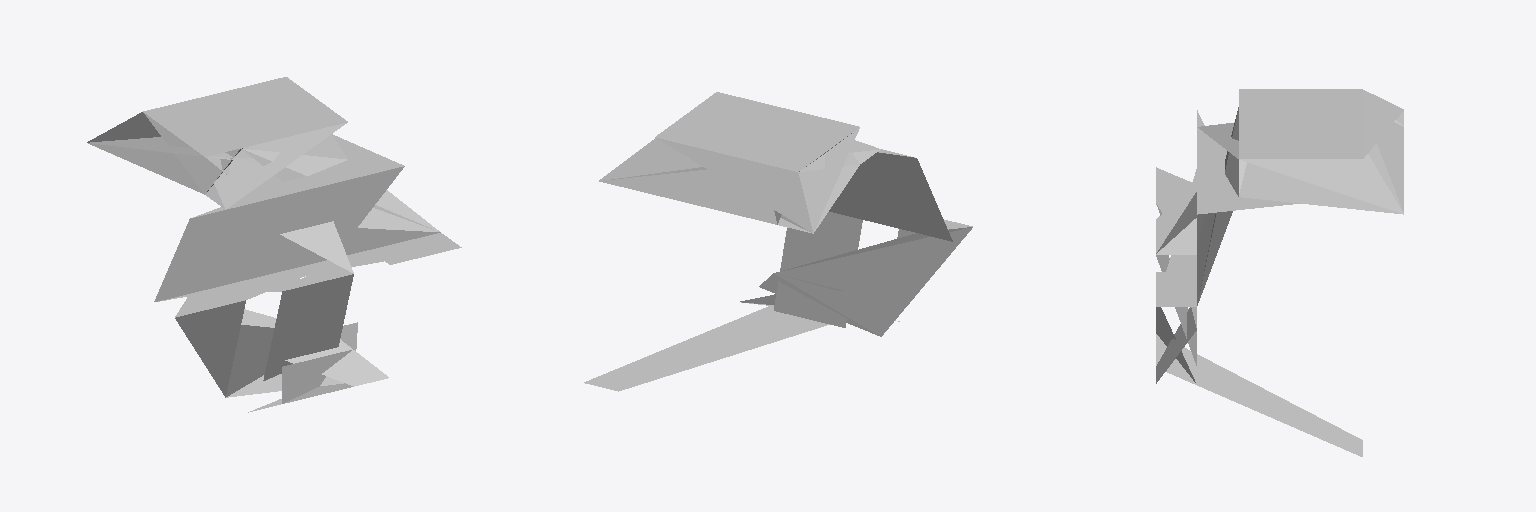
File: chr_old.obj
3 views of the same model, side by side, from view 1: azimuth 30°, elevation 25°; view 2: azimuth 150°, elevation 25°; view 3: azimuth 270°, elevation 25° (orthographic).
Size of the model in its own units: 8 by 7 by 6.